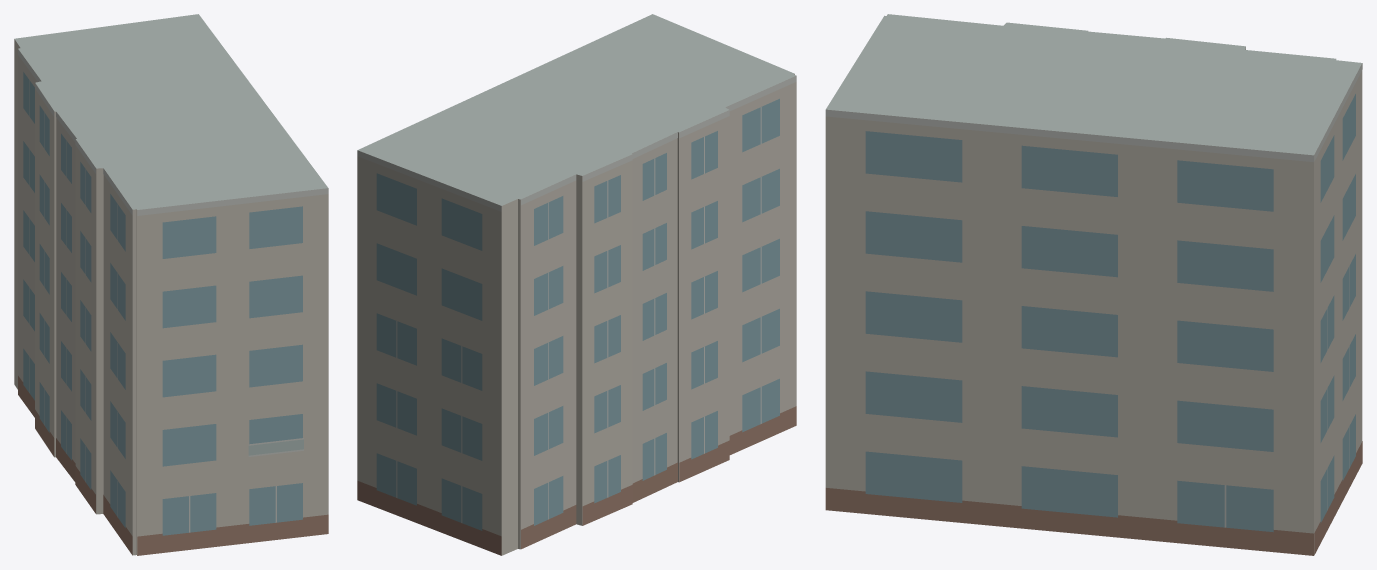
Rendered from survey-upis-32830293.glb.
3 views of the same model, side by side, from view 1: azimuth 30°, elevation 25°; view 2: azimuth 150°, elevation 25°; view 3: azimuth 270°, elevation 25° (orthographic). The views are drawn at different scales.
Visible parts, largest first — view 1: survey-upis-32830293.tmp; view 2: survey-upis-32830293.tmp; view 3: survey-upis-32830293.tmp.
Boxes of the visible parts, box(x1,y1,x2,y2) form: survey-upis-32830293.tmp: box(14, 14, 328, 555); survey-upis-32830293.tmp: box(357, 14, 796, 555); survey-upis-32830293.tmp: box(825, 14, 1362, 555).
Bounding box in the file's own units: 10.76 × 14.2 × 17.26.
